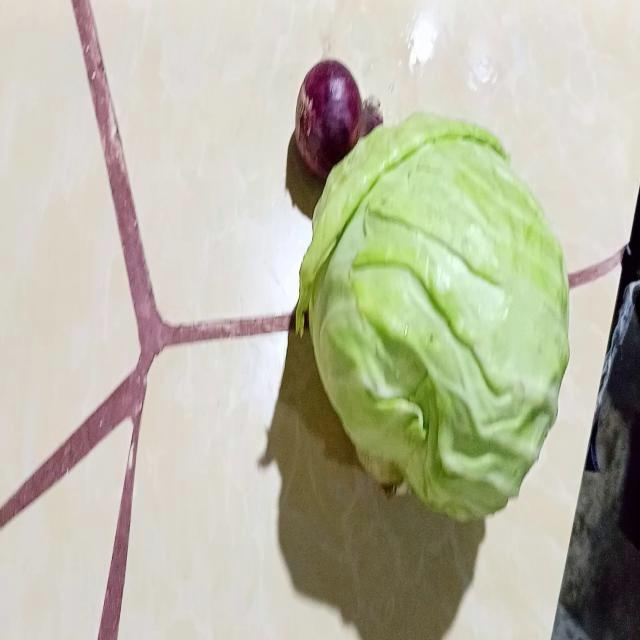cabbage: (300, 113, 571, 522)
onion: (297, 57, 385, 181)
